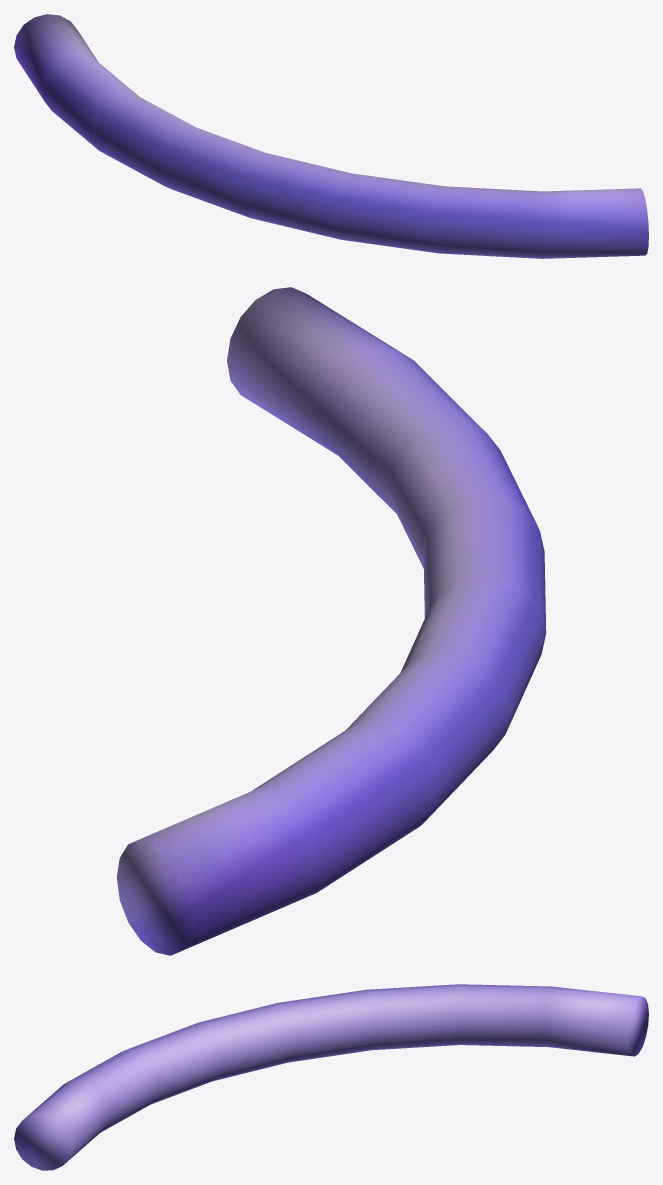
File: purple_noodle.glb
The picture shows the model from 3 angles, top to bottom: view 1: azimuth 30°, elevation 25°; view 2: azimuth 150°, elevation 25°; view 3: azimuth 270°, elevation 25°; orthographic projection. The views are drawn at different scales.
Visible parts, largest first — view 1: Pool_Item_5; view 2: Pool_Item_5; view 3: Pool_Item_5.
Boxes of the visible parts, x1=… form: Pool_Item_5: x1=14, y1=14, x2=648, y2=258; Pool_Item_5: x1=116, y1=287, x2=546, y2=955; Pool_Item_5: x1=14, y1=984, x2=648, y2=1170.
Size of the model in its own units: 1.18 by 0.2073 by 2.16.
Materials: 1 (1 with a texture image).
